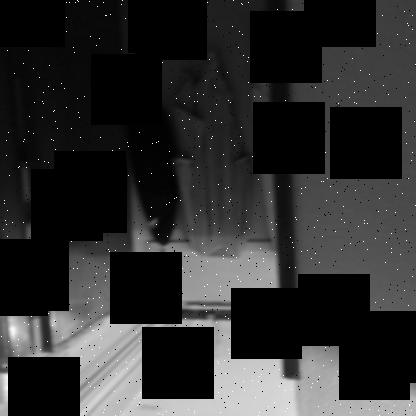Porte: (0, 1, 304, 383)
